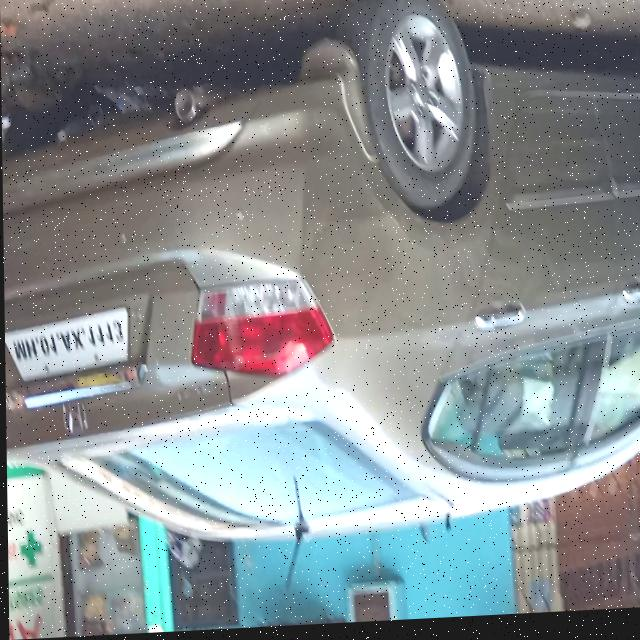plate: (4, 306, 131, 384)
